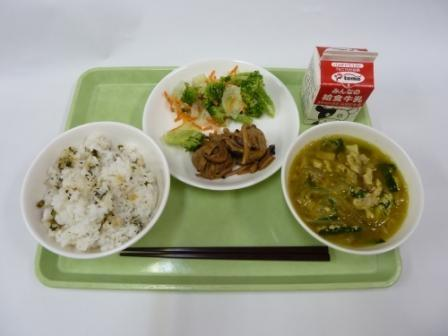Milk: (299, 39, 384, 127)
Rice: (22, 126, 161, 254)
Salad: (169, 62, 283, 123)
cooked food based on meat: (185, 125, 278, 187)
vegetable soup: (288, 120, 424, 249)
